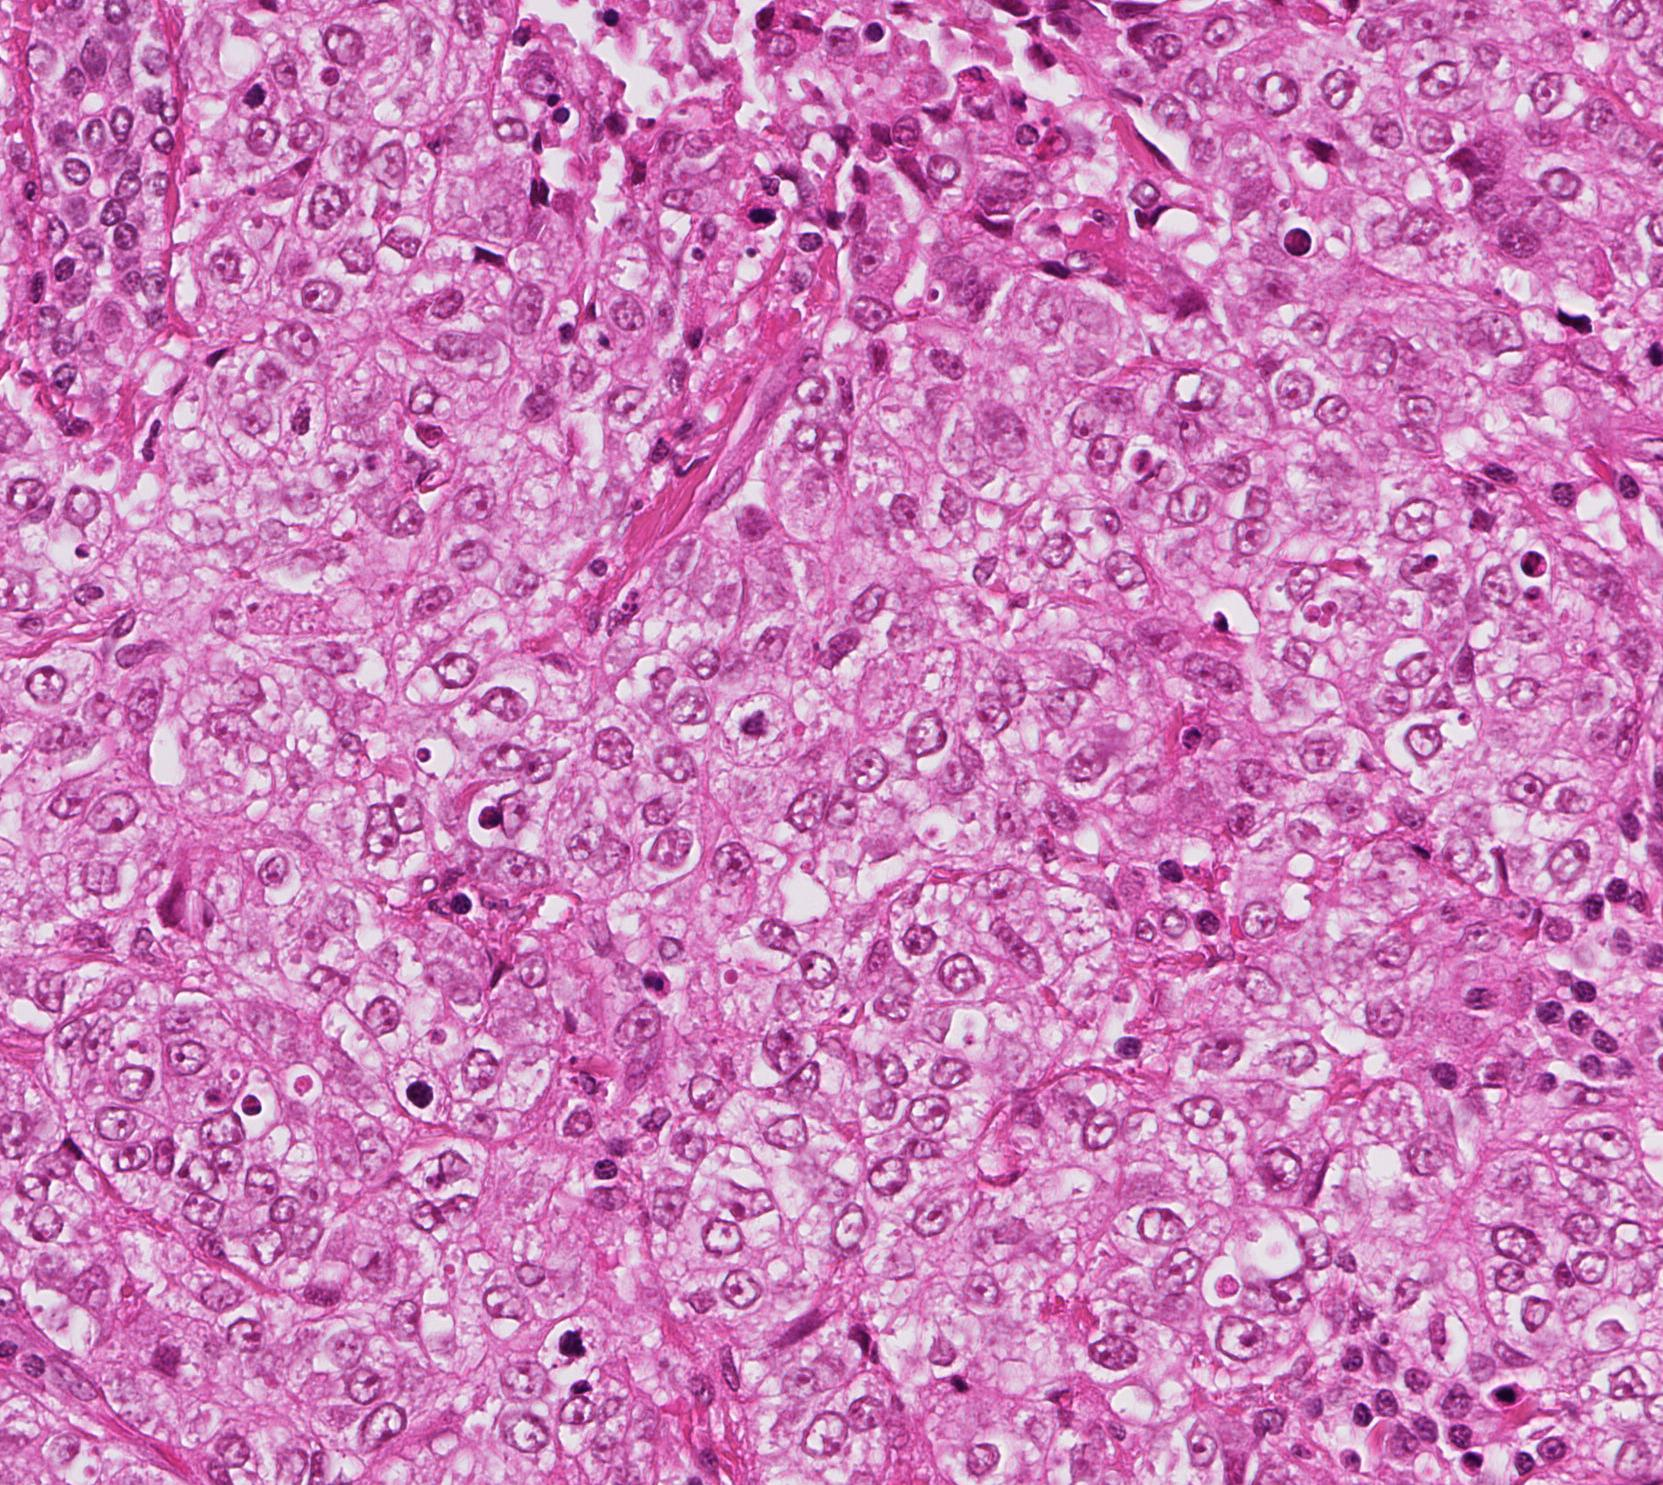mitosis: (540, 1323, 601, 1383), (216, 62, 277, 120), (386, 1065, 444, 1125)
